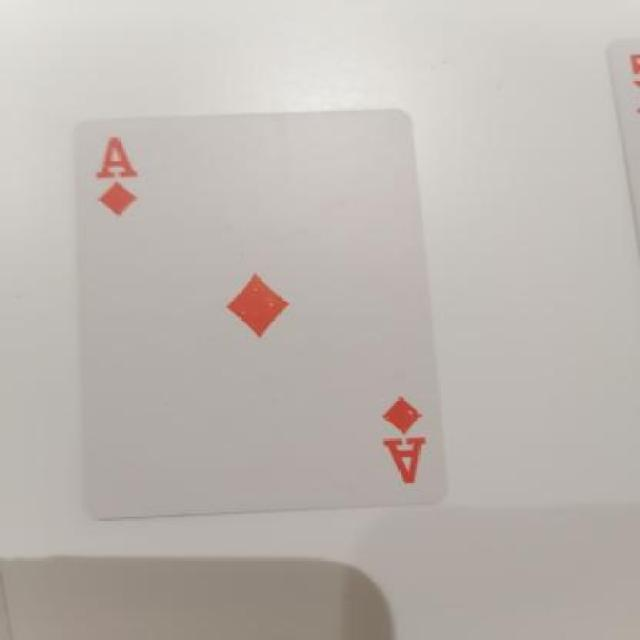AD: (91, 120, 169, 228), (357, 383, 435, 488)
